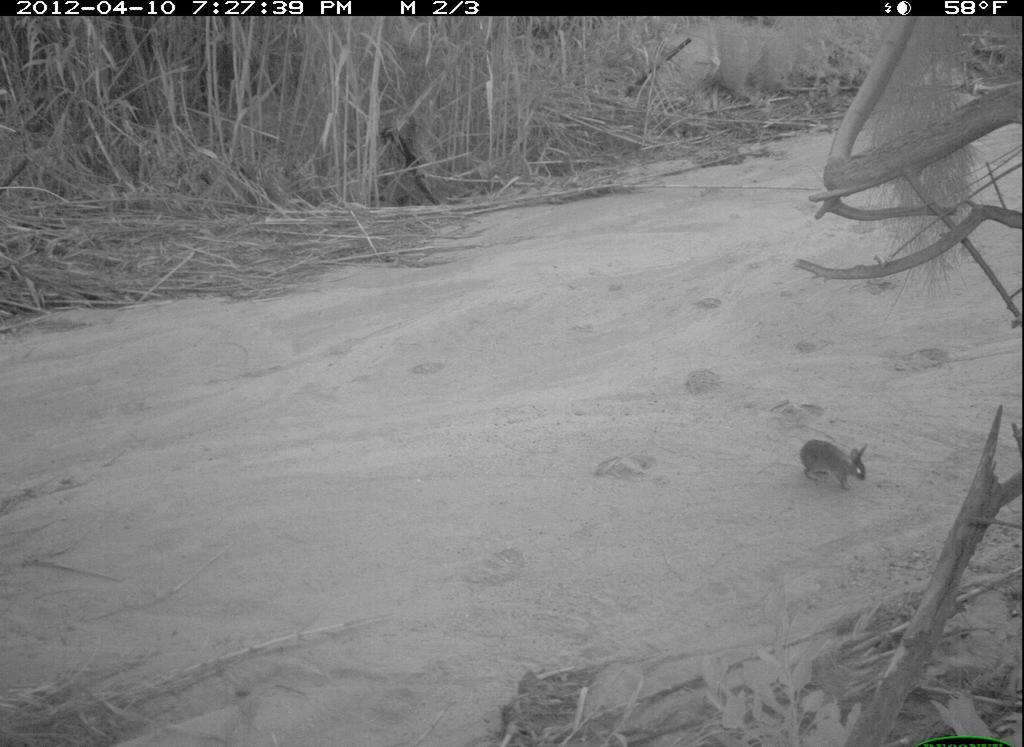rabbit: (797, 432, 875, 495)
